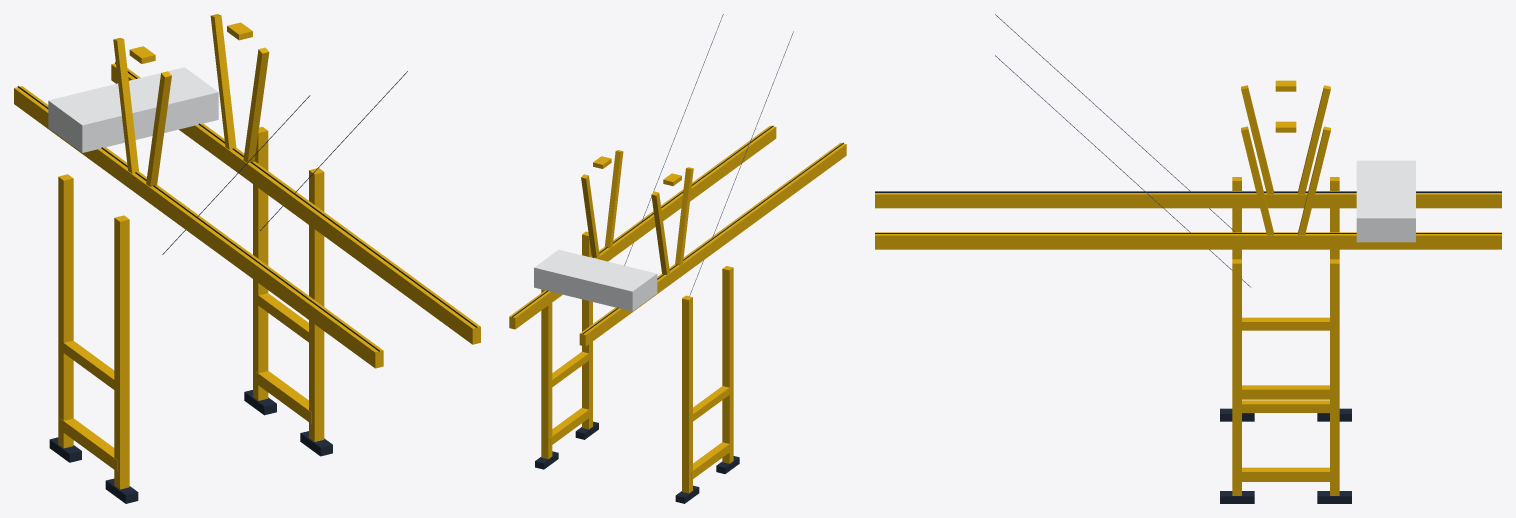
Rendered from sts_crane.glb.
3 renders of one model, left to right at view 1: azimuth 30°, elevation 25°; view 2: azimuth 150°, elevation 25°; view 3: azimuth 270°, elevation 25°, orthographic. The views are drawn at different scales.
Visible parts, largest first — view 1: STS_Gantry_Crane_PostPanamax; view 2: STS_Gantry_Crane_PostPanamax; view 3: STS_Gantry_Crane_PostPanamax.
Boxes of the visible parts, x1,y1,x2,y2 form: STS_Gantry_Crane_PostPanamax: [14, 14, 480, 503]; STS_Gantry_Crane_PostPanamax: [509, 14, 846, 503]; STS_Gantry_Crane_PostPanamax: [875, 14, 1501, 503].
Bounding box in the file's own units: 29.8 × 67.41 × 90.
